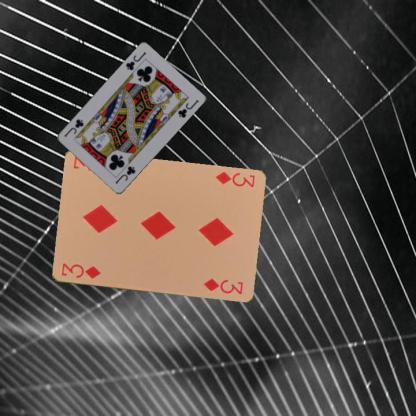3d: (213, 169, 256, 189), (58, 261, 102, 280)
Jc: (123, 50, 147, 72), (113, 163, 136, 185)
